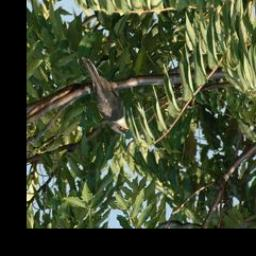Cuckoo: (78, 55, 132, 136)
